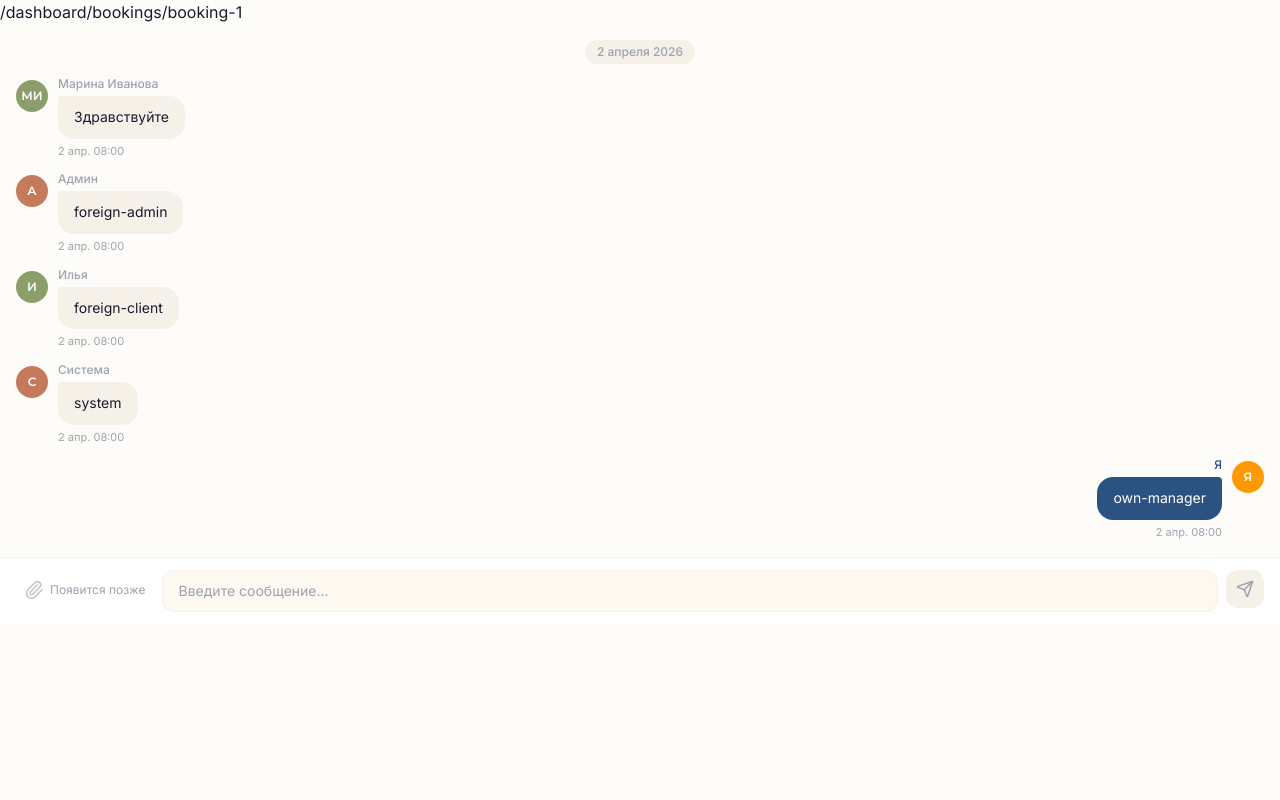
Test case: ChatWindow manager card › после ошибки повторное открытие снова запрашивает карточку
Click the button with aria-label "Карточка менеджера, Марина Иванова": (32, 96) [16,80,48,112]
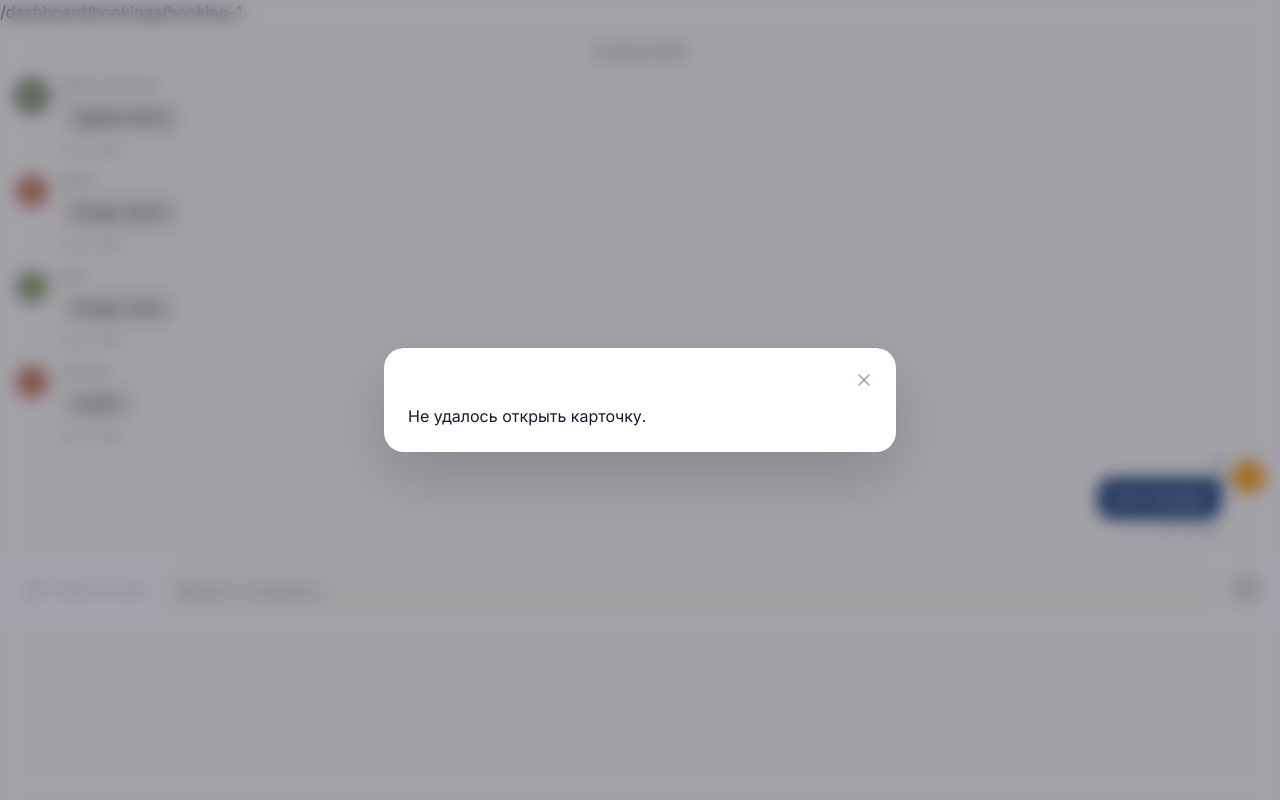
Check: the message reads "Не удалось открыть карточку.", box [408,406,646,426]
Click the button named "Закрыть": (864, 380) [848,364,880,396]
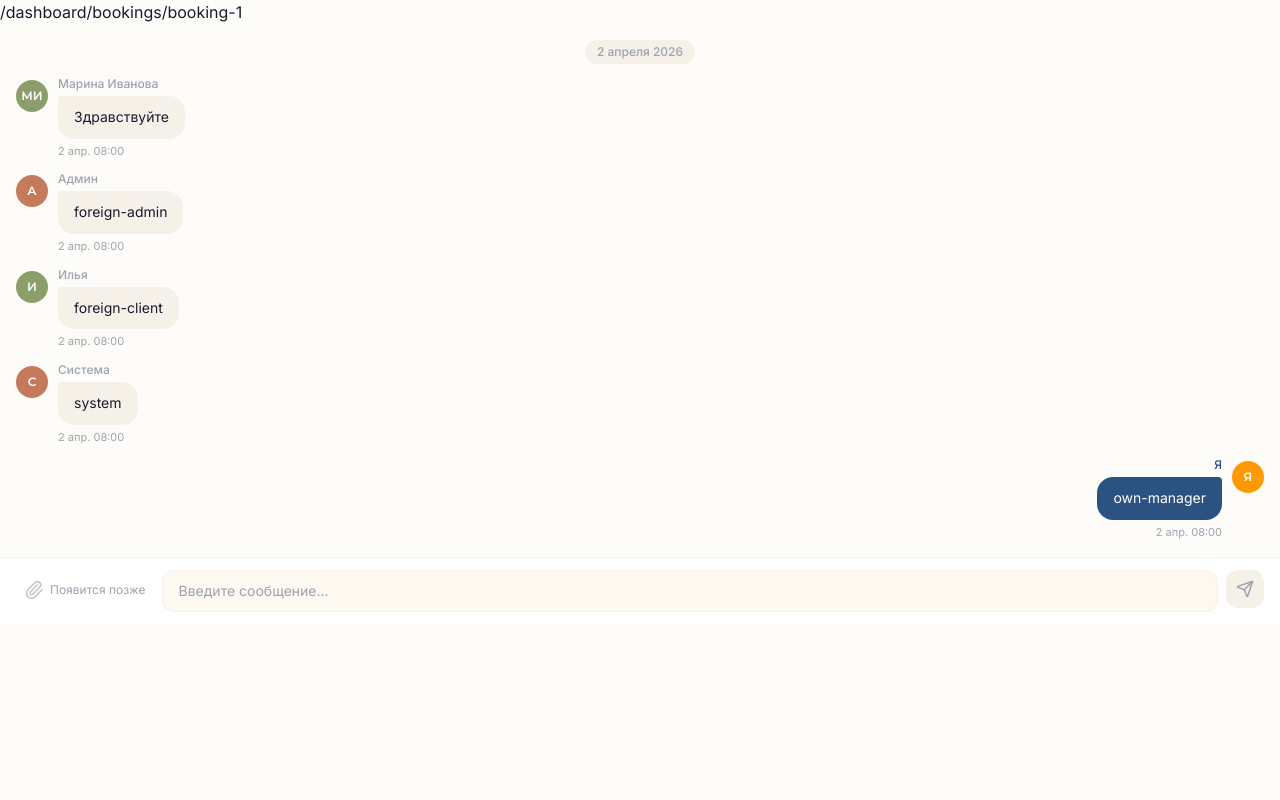
Check: the dialog is gone
Click the button with aria-label "Карточка менеджера, Марина Иванова": (32, 96) [16,80,48,112]
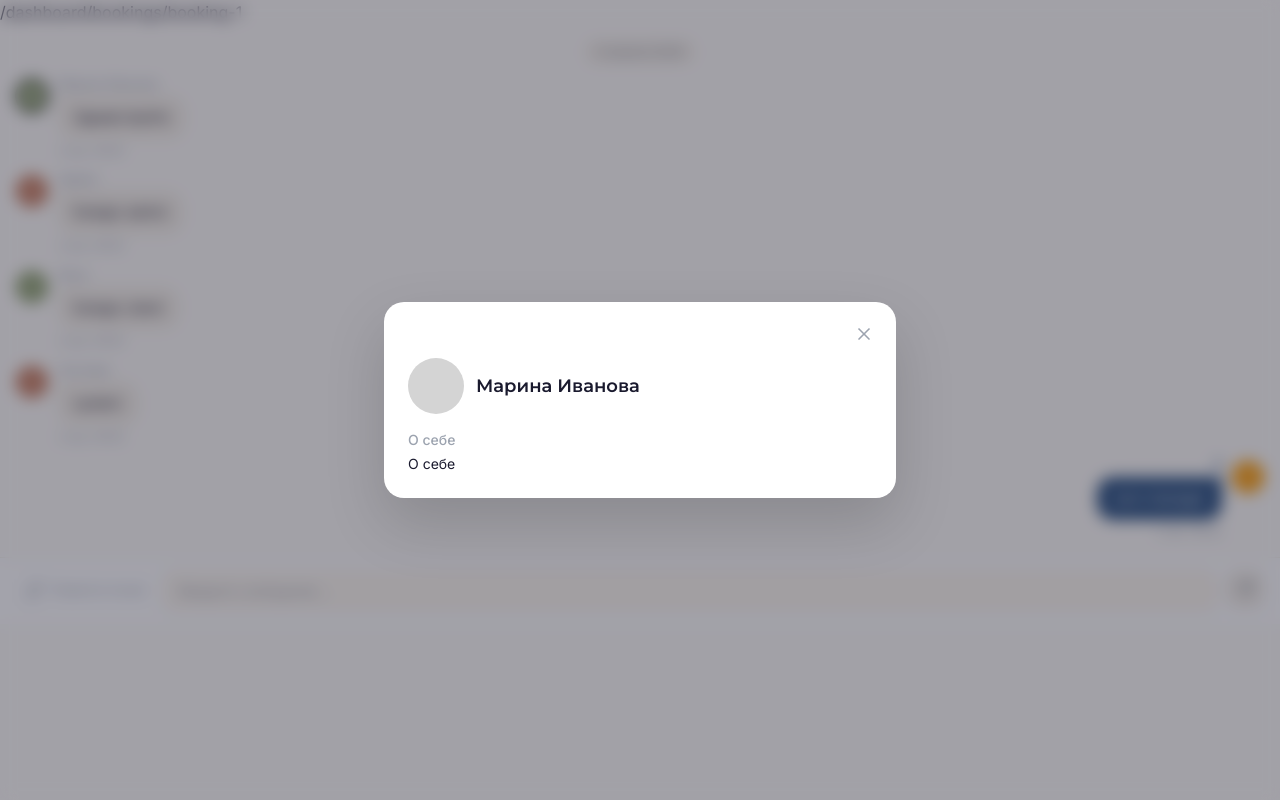
Check: the text "Марина Иванова" is shown, box [476,372,640,400]
Click the button named "Закрыть": (864, 334) [848,318,880,350]
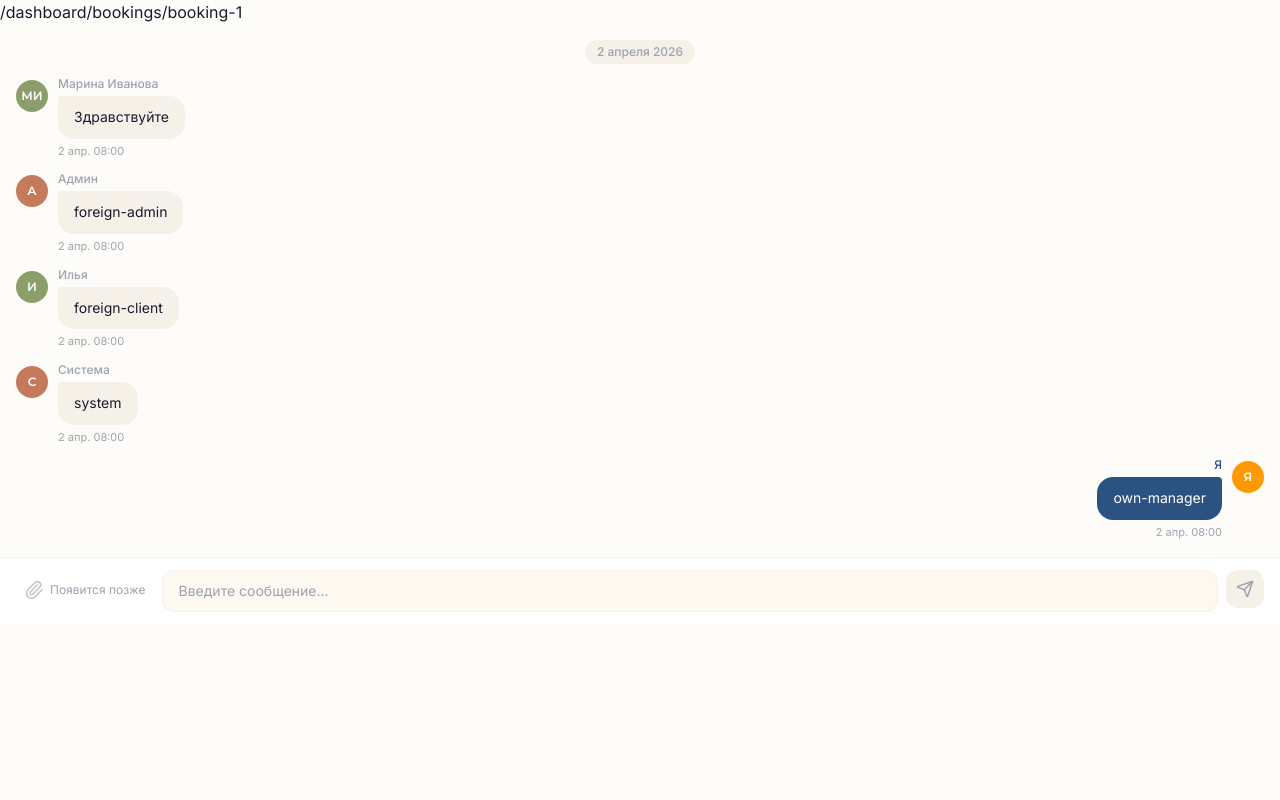
Check: the dialog is gone
Click the button with aria-label "Карточка менеджера, Марина Иванова": (32, 96) [16,80,48,112]
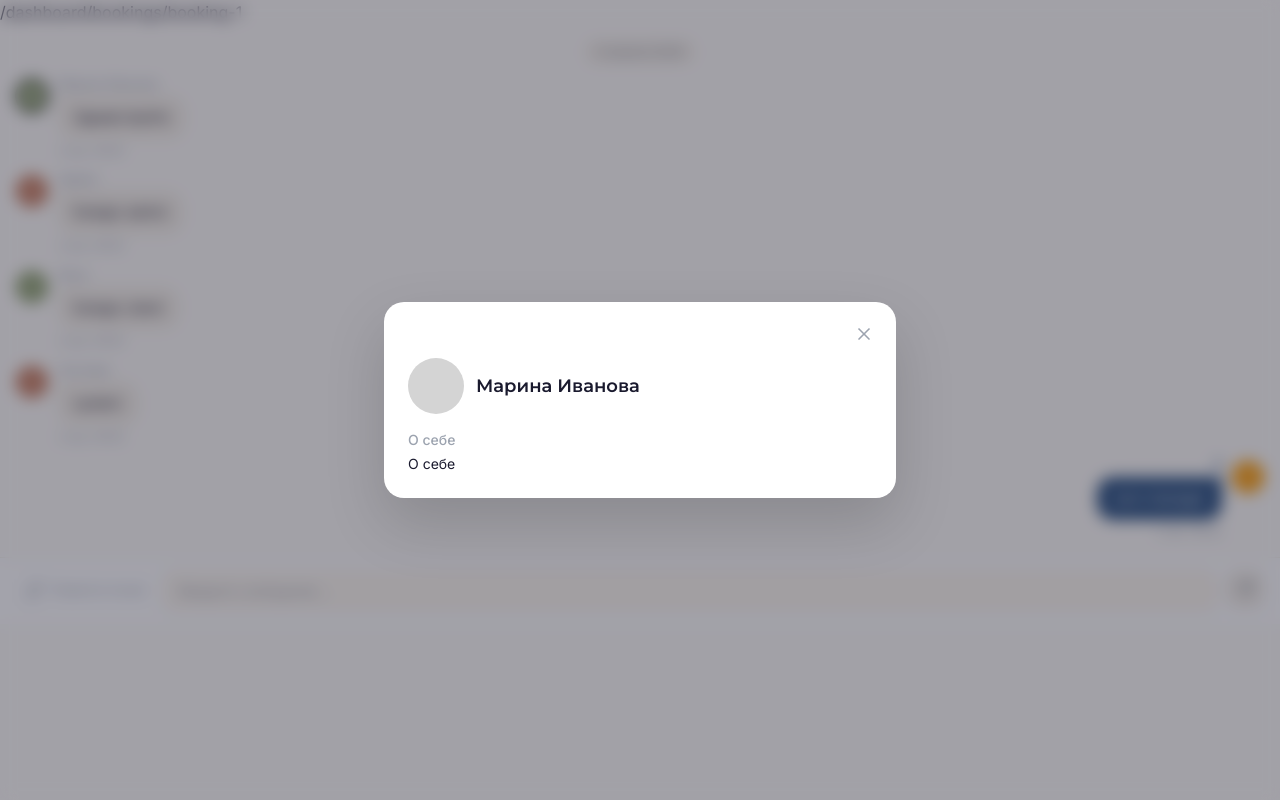
Check: the dialog named "Карточка менеджера" is shown, box [384,302,896,498]
